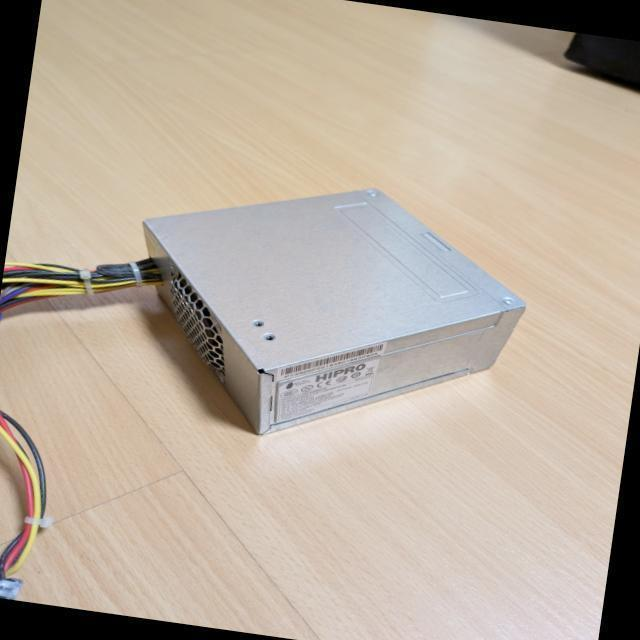PSU: (114, 157, 541, 470)
